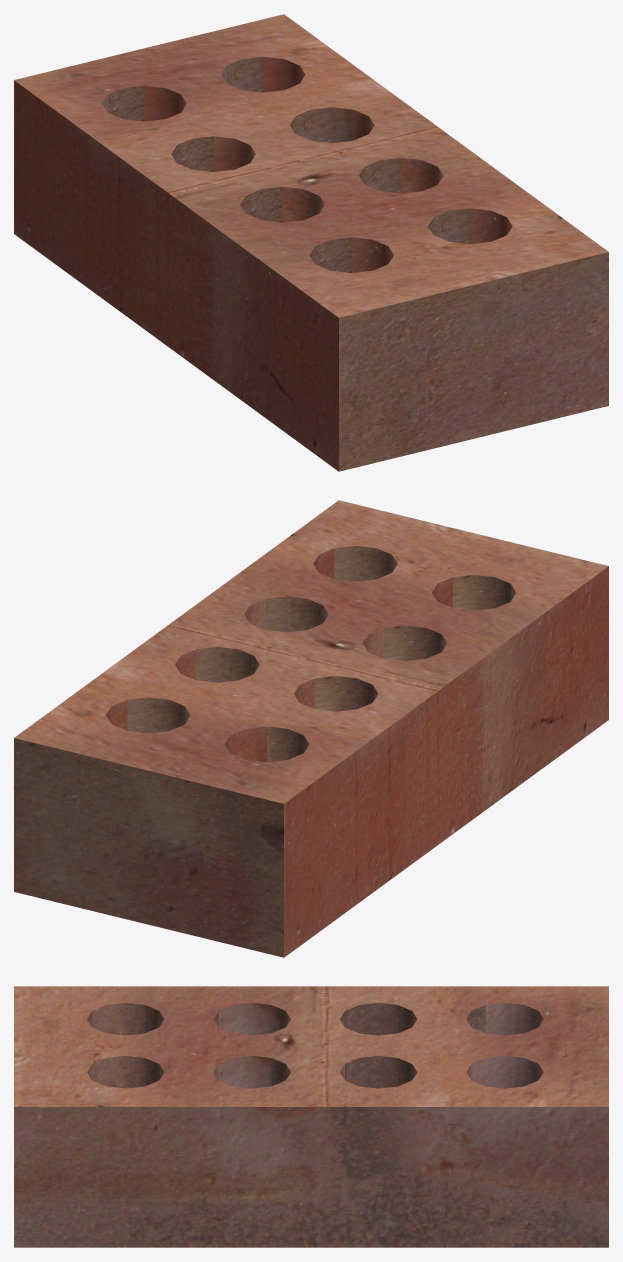
File: Brick.FBX
The picture shows the model from 3 angles, top to bottom: view 1: azimuth 30°, elevation 25°; view 2: azimuth 150°, elevation 25°; view 3: azimuth 270°, elevation 25°; orthographic projection. The views are drawn at different scales.
Parts seen in each view (by area): view 1: Brick; view 2: Brick; view 3: Brick.
Part boxes in pixels (bbox=[...]): Brick: bbox=[14, 14, 608, 471]; Brick: bbox=[14, 500, 608, 957]; Brick: bbox=[14, 986, 608, 1247].
Bounding box in the file's own units: 12 × 25 × 6.53.
Materials: 1 (1 with a texture image).
